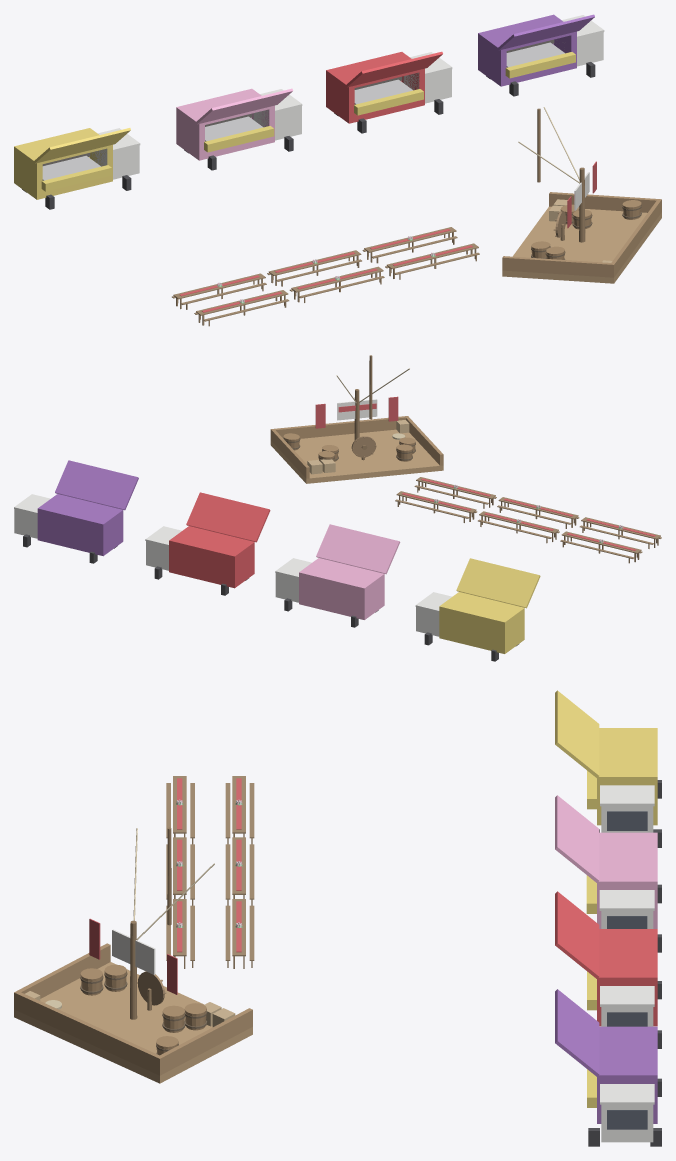
Rendered from food_truck.glb.
The picture shows the model from 3 angles, top to bottom: view 1: azimuth 30°, elevation 25°; view 2: azimuth 150°, elevation 25°; view 3: azimuth 270°, elevation 25°; orthographic projection. The views are drawn at different scales.
Visible parts, largest first — view 1: Geom3D (×24); view 2: Geom3D (×17); view 3: Geom3D (×23).
Boxes of the visible parts, x1,y1,x2,y2 form: Geom3D (×24): (14, 14, 661, 283); Geom3D (×17): (14, 399, 540, 653); Geom3D (×23): (14, 690, 657, 1142).
Size of the model in its own units: 45.32 by 10.36 by 33.76.
